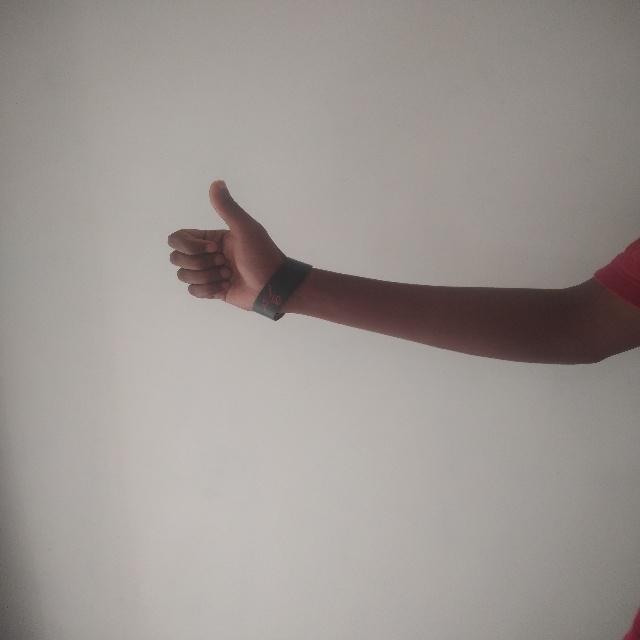Thumbs Up: (162, 170, 311, 340)
